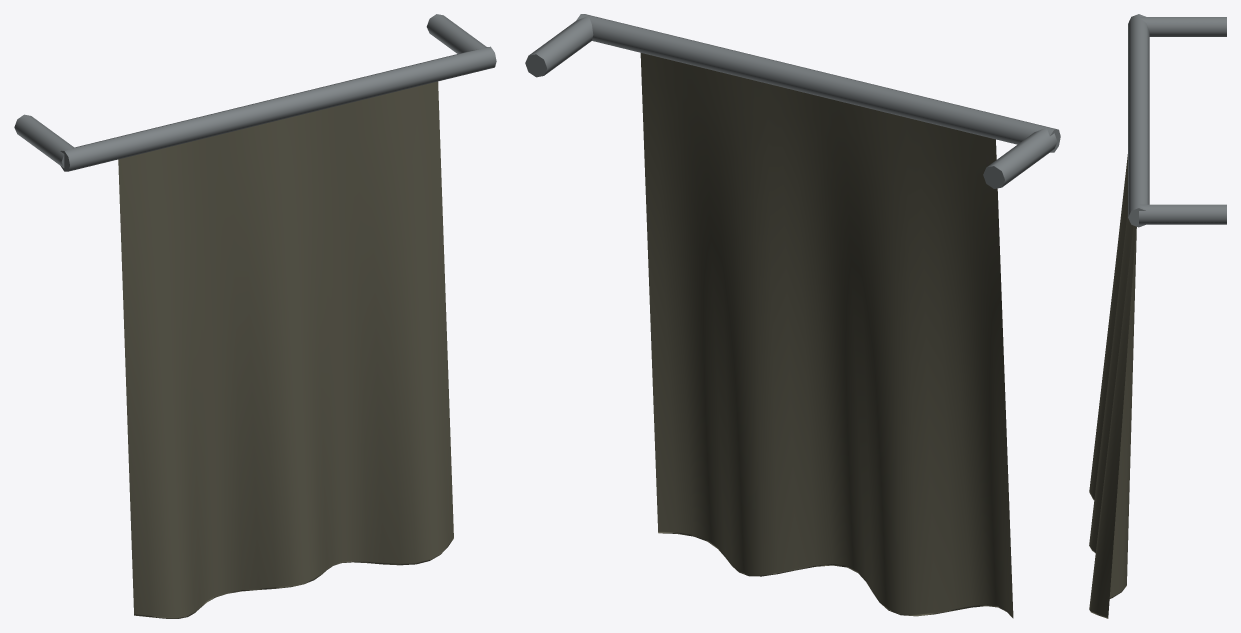
Rendered from bathroom-towel-rail.glb.
The picture shows the model from 3 angles, left to right: view 1: azimuth 30°, elevation 25°; view 2: azimuth 150°, elevation 25°; view 3: azimuth 270°, elevation 25°; orthographic projection. The views are drawn at different scales.
Visible parts, largest first — view 1: Hand towel folded on rail, Towel rail, Rail mounting, Rail mounting.001; view 2: Hand towel folded on rail, Towel rail, Rail mounting, Rail mounting.001; view 3: Hand towel folded on rail, Towel rail, Rail mounting.001, Rail mounting.
Boxes of the visible parts, x1,y1,x2,y2 form: Hand towel folded on rail: (118,81,453,618); Towel rail: (60,46,496,171); Rail mounting: (14,114,73,167); Rail mounting.001: (426,14,486,53); Hand towel folded on rail: (640,53,1013,618); Towel rail: (576,14,1060,152); Rail mounting: (983,127,1057,188); Rail mounting.001: (525,16,593,77); Hand towel folded on rail: (1089,154,1136,618); Towel rail: (1128,14,1149,227); Rail mounting.001: (1139,204,1226,224); Rail mounting: (1139,17,1226,36).
Bounding box in the file's own units: 0.608 × 0.642 × 0.18.
2 materials, 1 textured.
